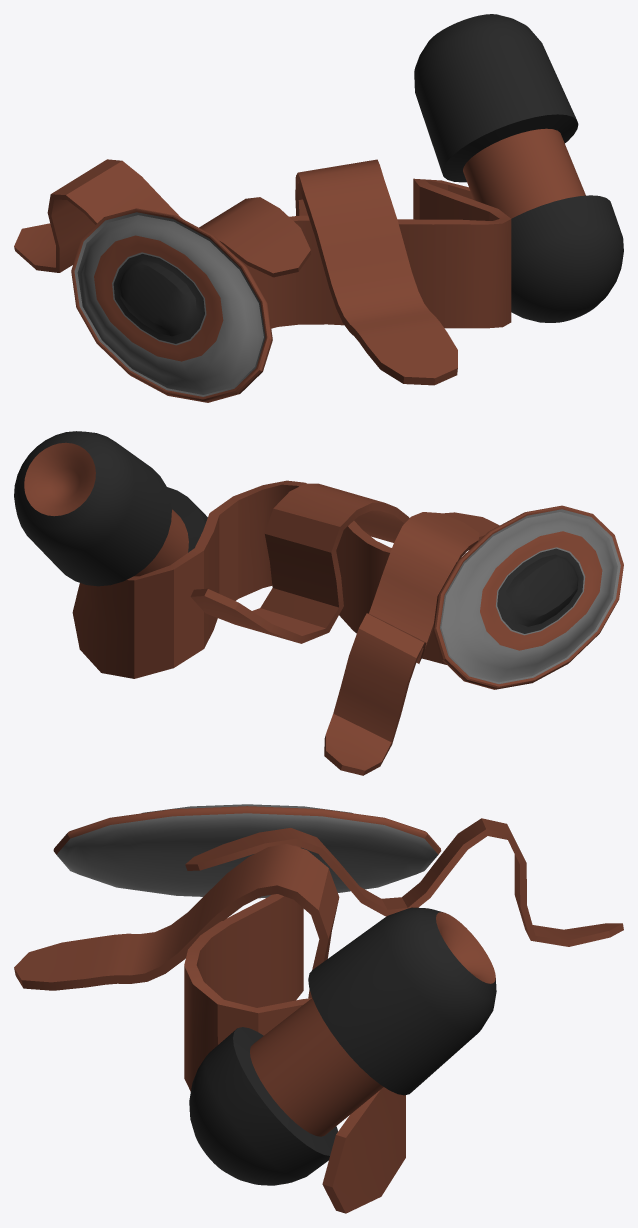
Rendered from Rubbish.fbx.
3 renders of one model, top to bottom at view 1: azimuth 30°, elevation 25°; view 2: azimuth 150°, elevation 25°; view 3: azimuth 270°, elevation 25°, orthographic. The views are drawn at different scales.
Visible parts, largest first — view 1: Capsule; view 2: Capsule; view 3: Capsule.
Part boxes in pixels (x1=…): Capsule: x1=14, y1=14, x2=623, y2=402; Capsule: x1=14, y1=431, x2=623, y2=775; Capsule: x1=14, y1=804, x2=623, y2=1213.
Bounding box in the file's own units: 4.8 × 2.41 × 4.7.
